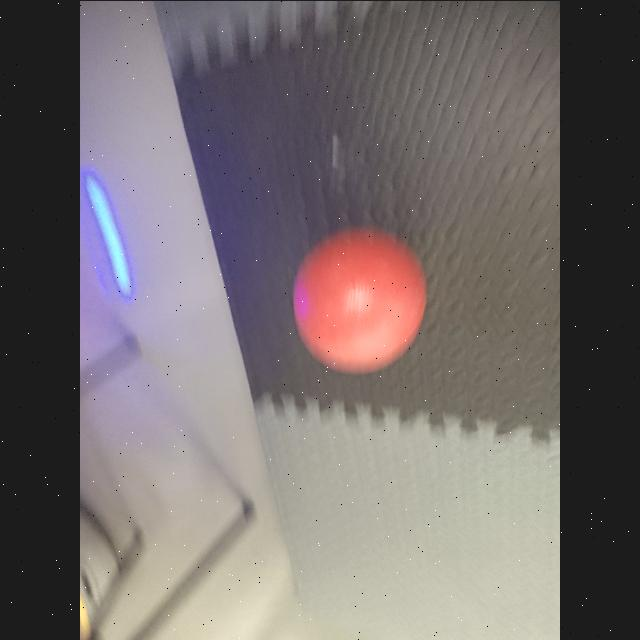R: (289, 228, 431, 374)
